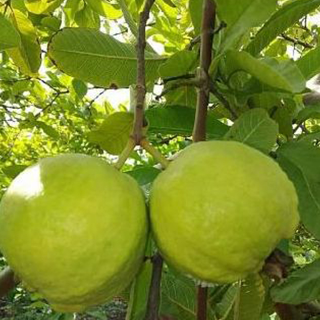oi: (1, 135, 147, 308), (146, 137, 309, 288)
